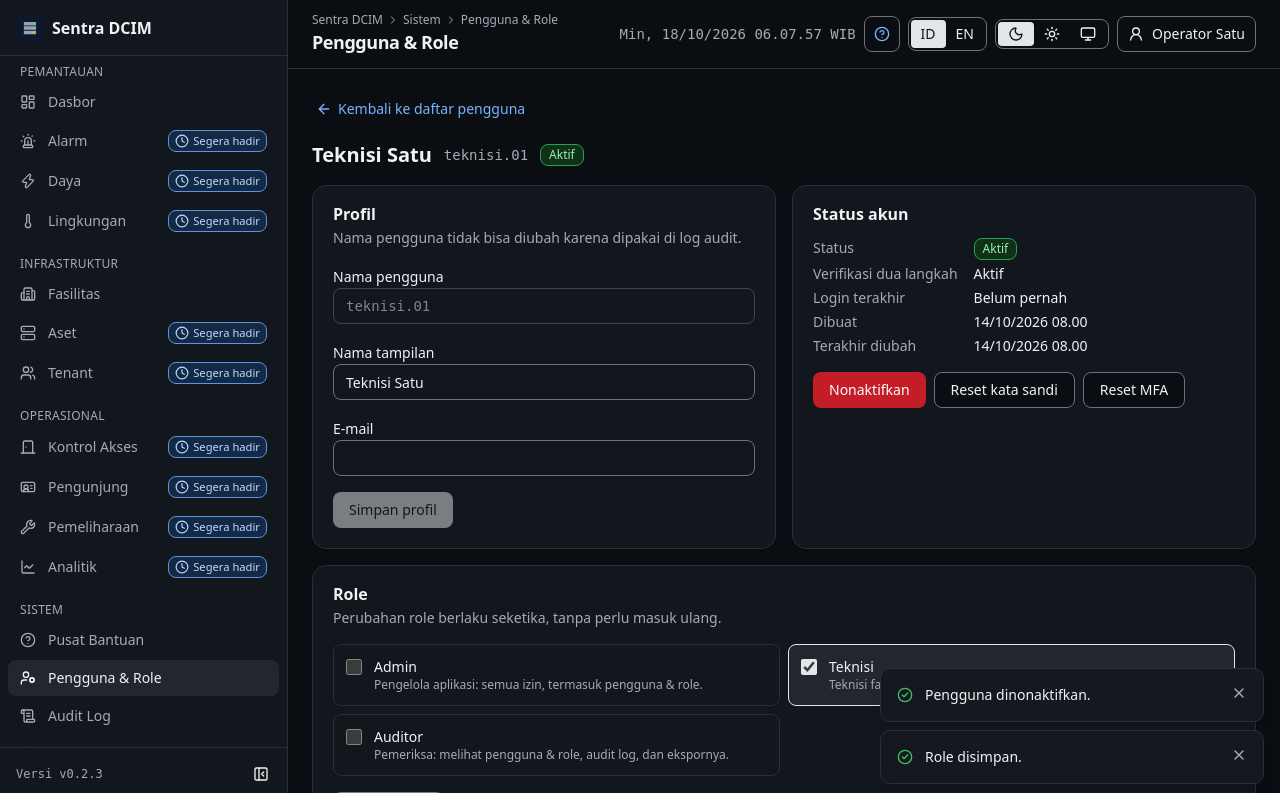
Scenario: users & roles › resets another user's MFA after confirmation, never the own one
Expected: the text with test id "user-mfa" reads "Aktif", [974, 264, 1004, 283]
Click the button with test id "reset-mfa".
click(1134, 390)  # box [1083, 372, 1185, 408]
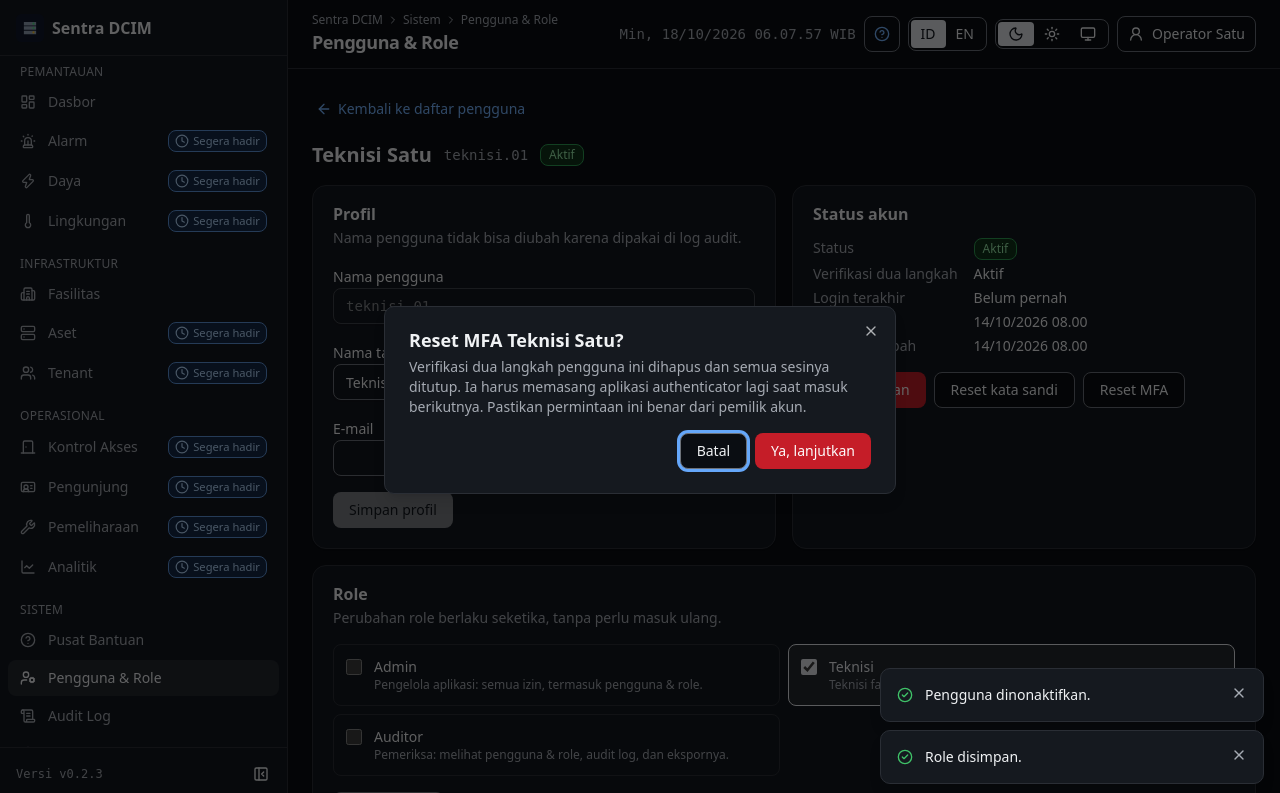
Result: the dialog with test id "confirm-dialog" shows "Verifikasi dua langkah pengguna ini dihapus dan semua sesinya ditutup. Ia harus memasang aplikasi authenticator lagi saat masuk berikutnya. Pastikan permintaan" at [409, 357, 848, 416]
Click the button with test id "confirm".
click(813, 451)  # box [755, 433, 871, 469]
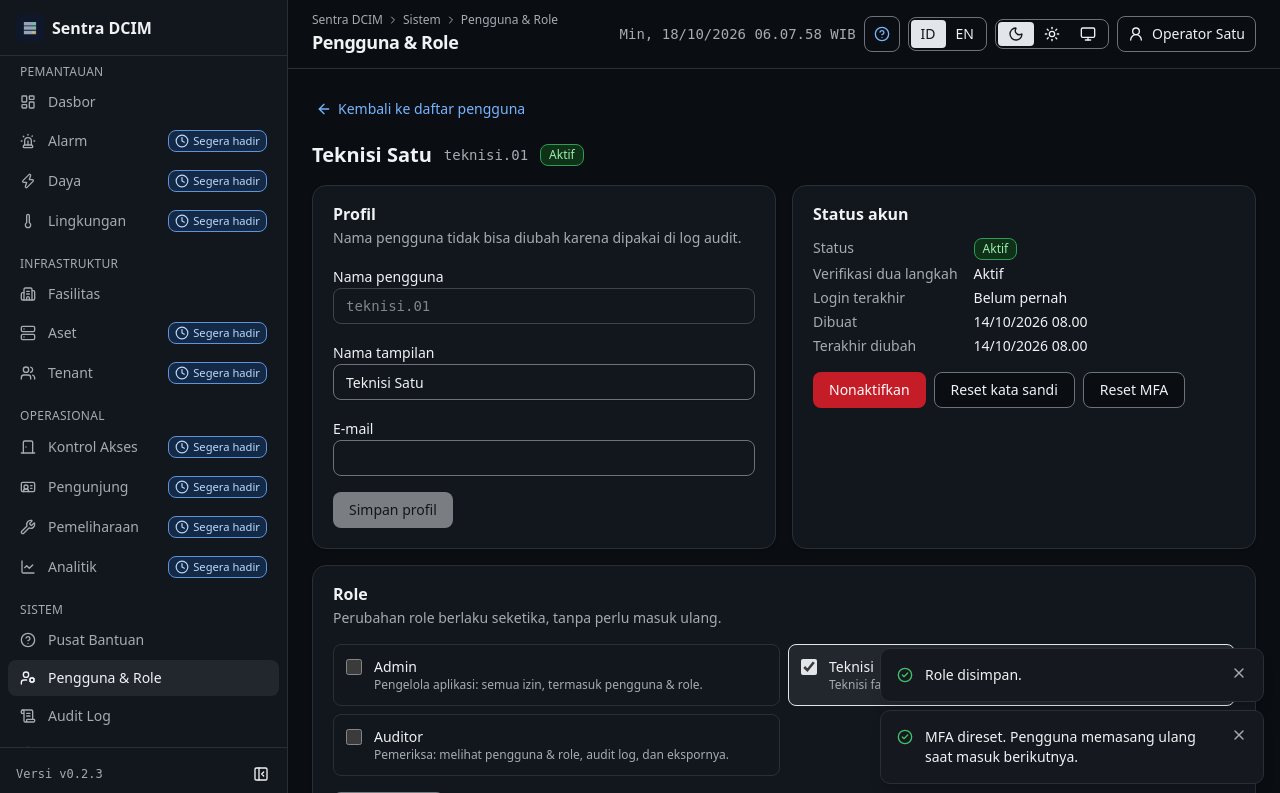
Result: the text "MFA direset. Pengguna memasang ulang saat masuk berikutnya." is shown at [925, 727, 1219, 767]
